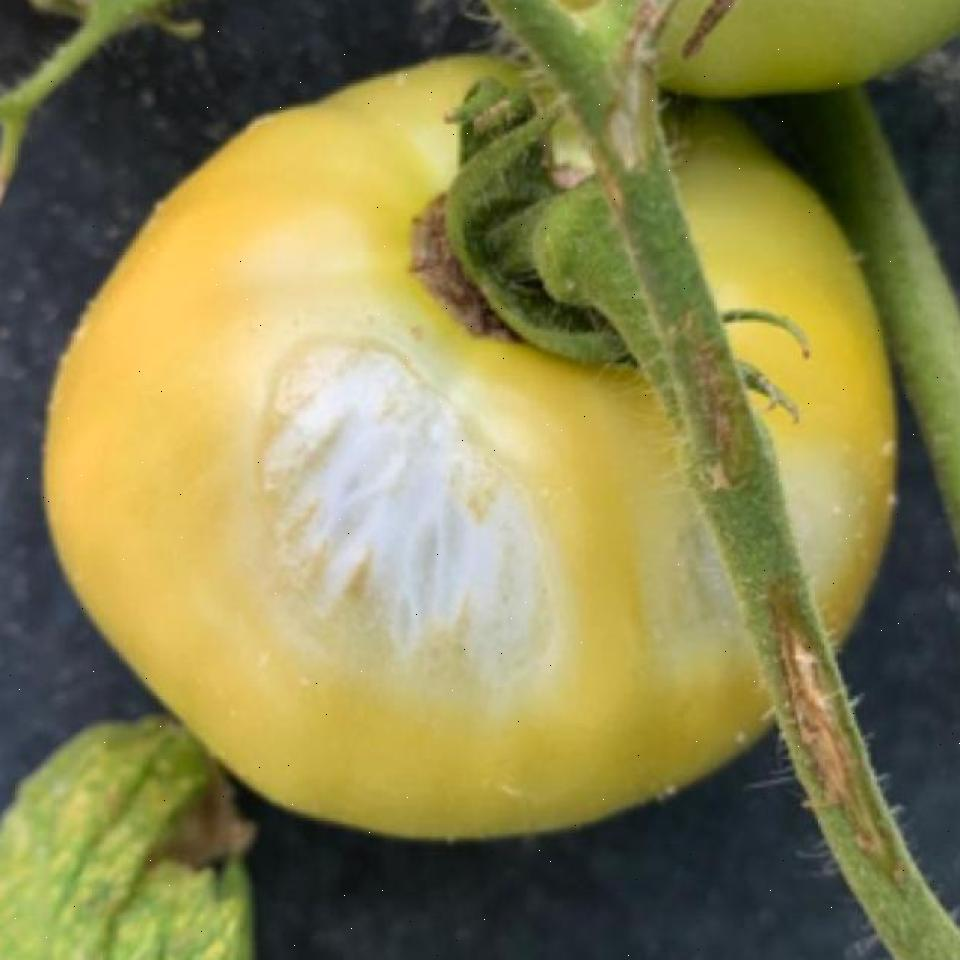Sunscald: (249, 318, 545, 693), (622, 409, 844, 672)
